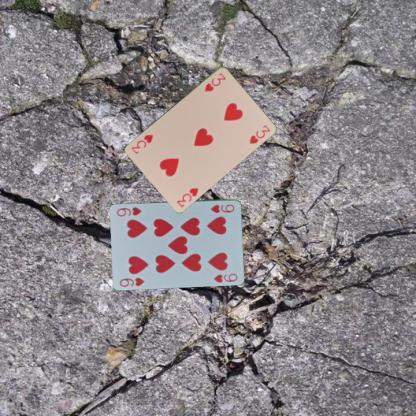3h: (174, 184, 200, 208), (202, 70, 228, 92)
9h: (117, 274, 146, 288), (208, 202, 236, 214)
